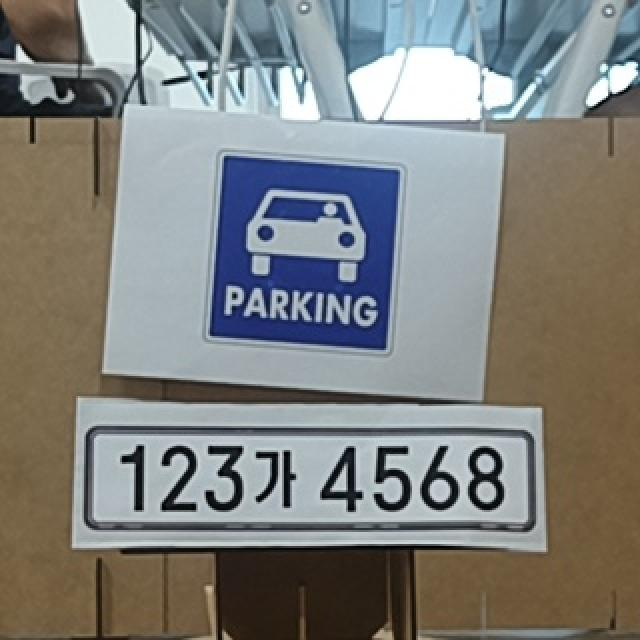normal: (85, 424, 530, 528)
